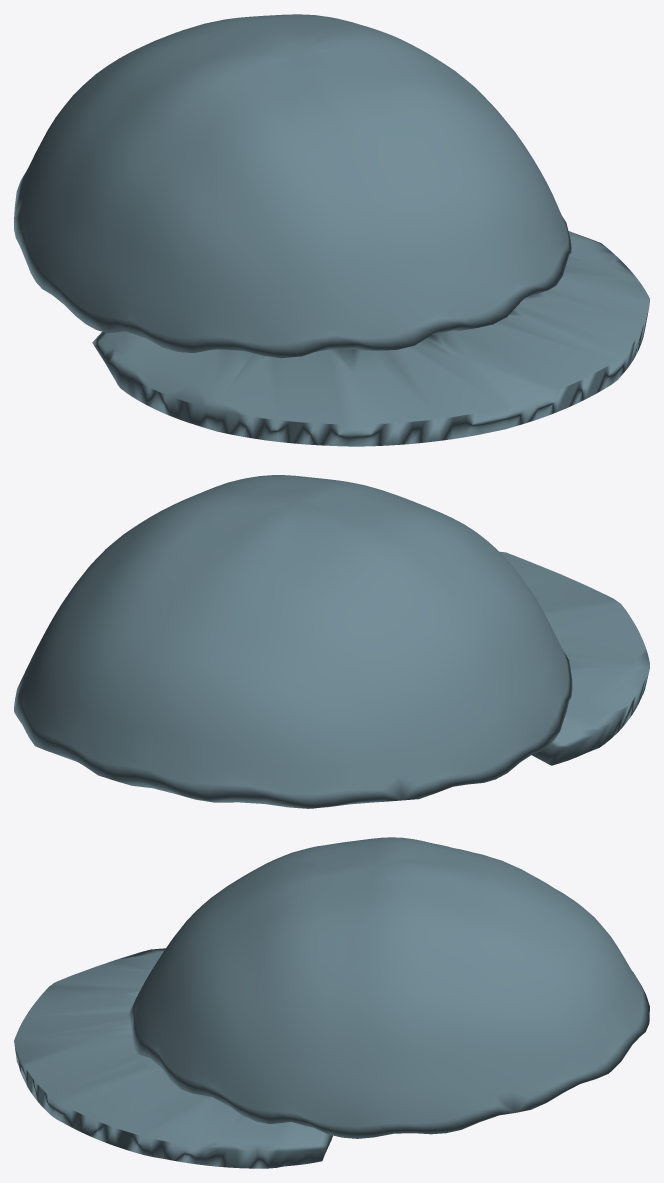
Rendered from 4HT-feminino.glb.
The picture shows the model from 3 angles, top to bottom: view 1: azimuth 30°, elevation 25°; view 2: azimuth 150°, elevation 25°; view 3: azimuth 270°, elevation 25°; orthographic projection. The views are drawn at different scales.
Parts seen in each view (by area): view 1: crown, shaped-brim; view 2: crown, shaped-brim; view 3: crown, shaped-brim.
Boxes of the visible parts, x1=… form: crown: x1=14, y1=14, x2=571, y2=358; shaped-brim: x1=92, y1=231, x2=649, y2=446; crown: x1=14, y1=475, x2=572, y2=808; shaped-brim: x1=499, y1=551, x2=649, y2=765; crown: x1=128, y1=837, x2=649, y2=1138; shaped-brim: x1=14, y1=948, x2=332, y2=1168.
Bounding box in the file's own units: 0.0306 × 0.0138 × 0.0393.
